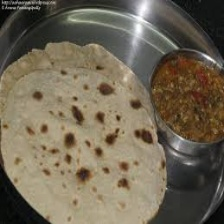sabzi: (149, 54, 224, 144)
